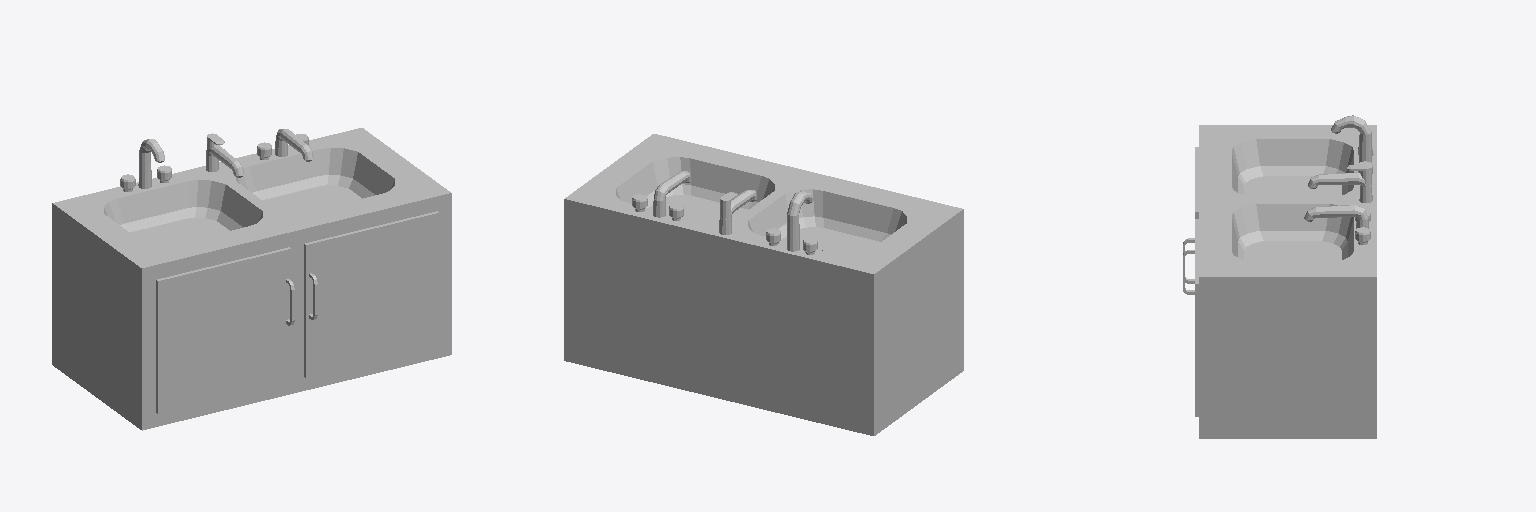
The model's file is sink.obj.
3 views of the same model, side by side, from view 1: azimuth 30°, elevation 25°; view 2: azimuth 150°, elevation 25°; view 3: azimuth 270°, elevation 25° (orthographic).
Parts seen in each view (by area): view 1: House_Pack.obj00f856ee-0940-472c-bbf3-ebf873640a90.705; view 2: House_Pack.obj00f856ee-0940-472c-bbf3-ebf873640a90.705; view 3: House_Pack.obj00f856ee-0940-472c-bbf3-ebf873640a90.705.
Part boxes in pixels (left/top/right/bottom): House_Pack.obj00f856ee-0940-472c-bbf3-ebf873640a90.705: left=52, top=128, right=451, bottom=430; House_Pack.obj00f856ee-0940-472c-bbf3-ebf873640a90.705: left=564, top=134, right=963, bottom=435; House_Pack.obj00f856ee-0940-472c-bbf3-ebf873640a90.705: left=1183, top=115, right=1376, bottom=438.
Size of the model in its own units: 22 by 14.53 by 11.99.